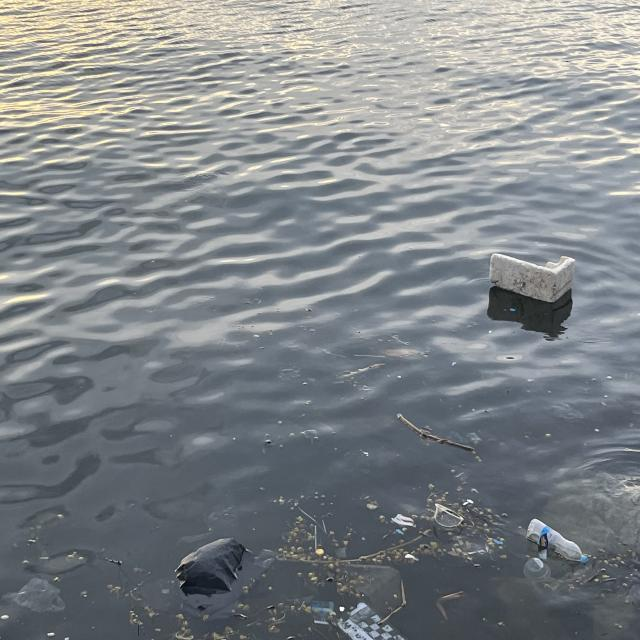foam: (488, 253, 576, 303)
plastic: (527, 518, 589, 564)
plastic bottle: (175, 538, 284, 618), (339, 564, 411, 612), (331, 602, 409, 640), (15, 577, 66, 614), (301, 418, 335, 444), (524, 557, 552, 584), (434, 503, 464, 528), (312, 600, 334, 628), (383, 346, 423, 359), (449, 430, 482, 445), (392, 514, 417, 528), (354, 353, 386, 358), (336, 547, 346, 559)
